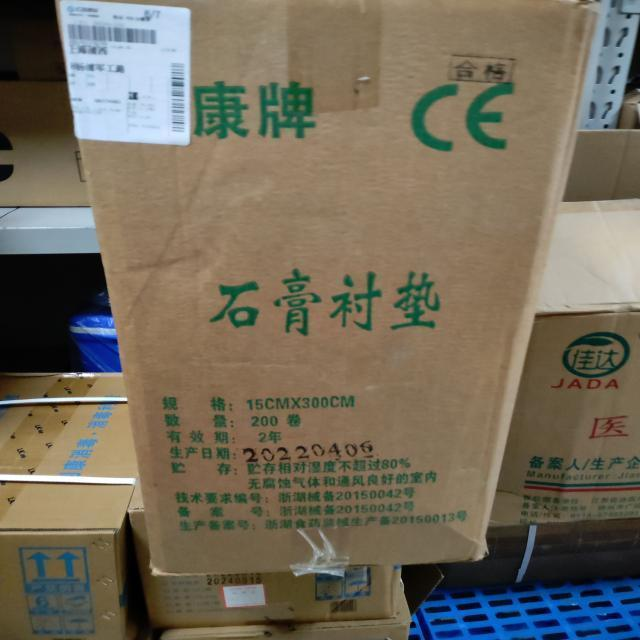box: (56, 2, 588, 576), (485, 130, 640, 527), (126, 471, 394, 624), (0, 366, 146, 640), (0, 80, 94, 210)
